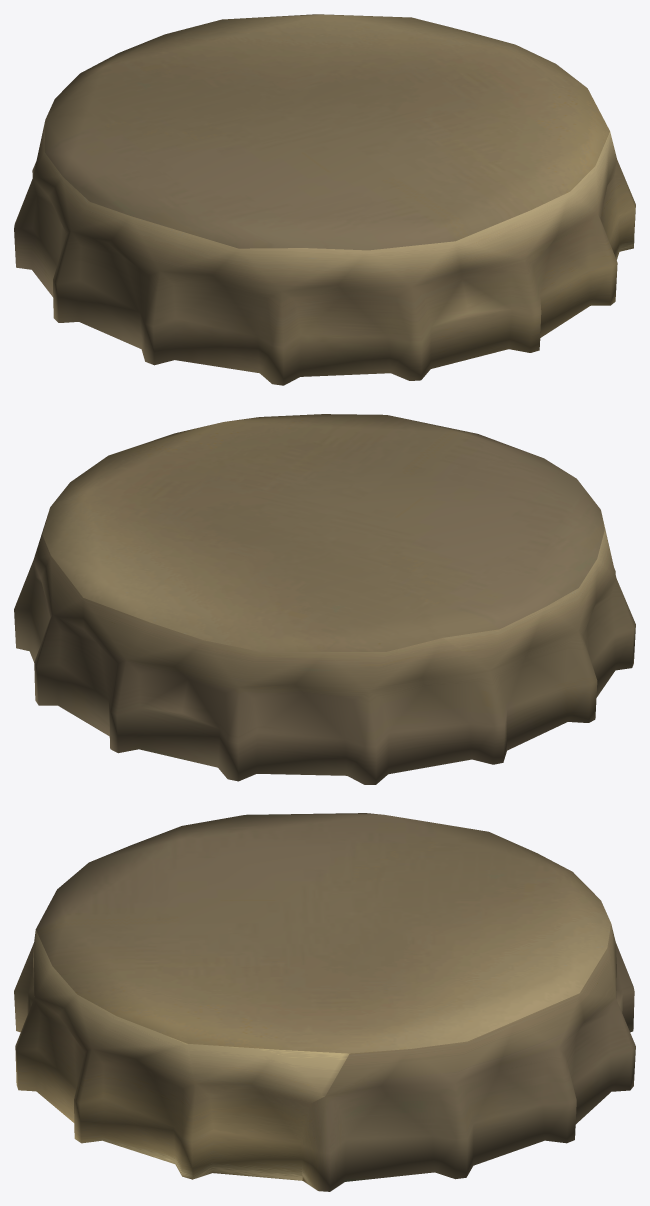
File: BottleCap.fbx
3 renders of one model, top to bottom at view 1: azimuth 30°, elevation 25°; view 2: azimuth 150°, elevation 25°; view 3: azimuth 270°, elevation 25°, orthographic. The views are drawn at different scales.
Parts seen in each view (by area): view 1: bottle cap; view 2: bottle cap; view 3: bottle cap.
Boxes of the visible parts, x1,y1,x2,y2 form: bottle cap: (14,14,635,385); bottle cap: (14,414,635,784); bottle cap: (14,813,635,1191).
Size of the model in its own units: 0.0473 by 0.0111 by 0.0462.
